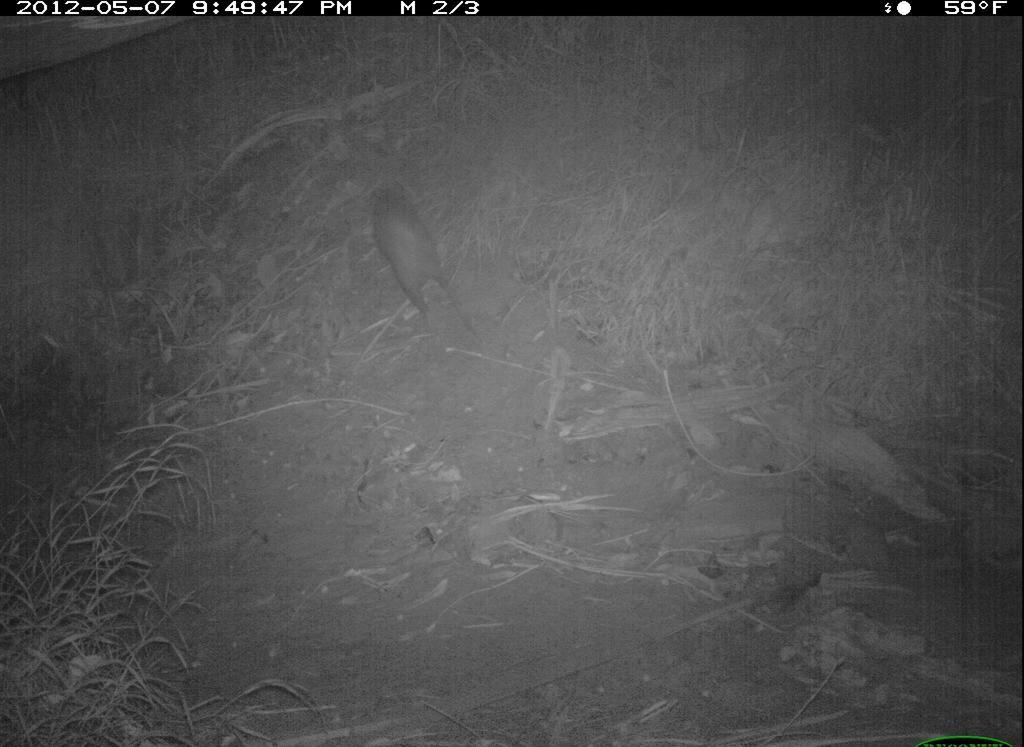opossum: (358, 155, 483, 361)
